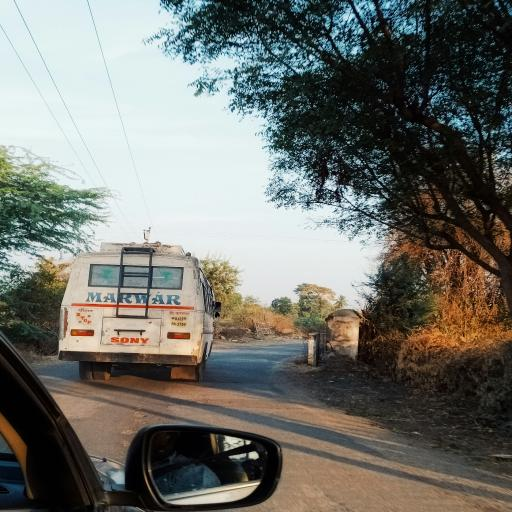bus: (56, 247, 220, 387)
